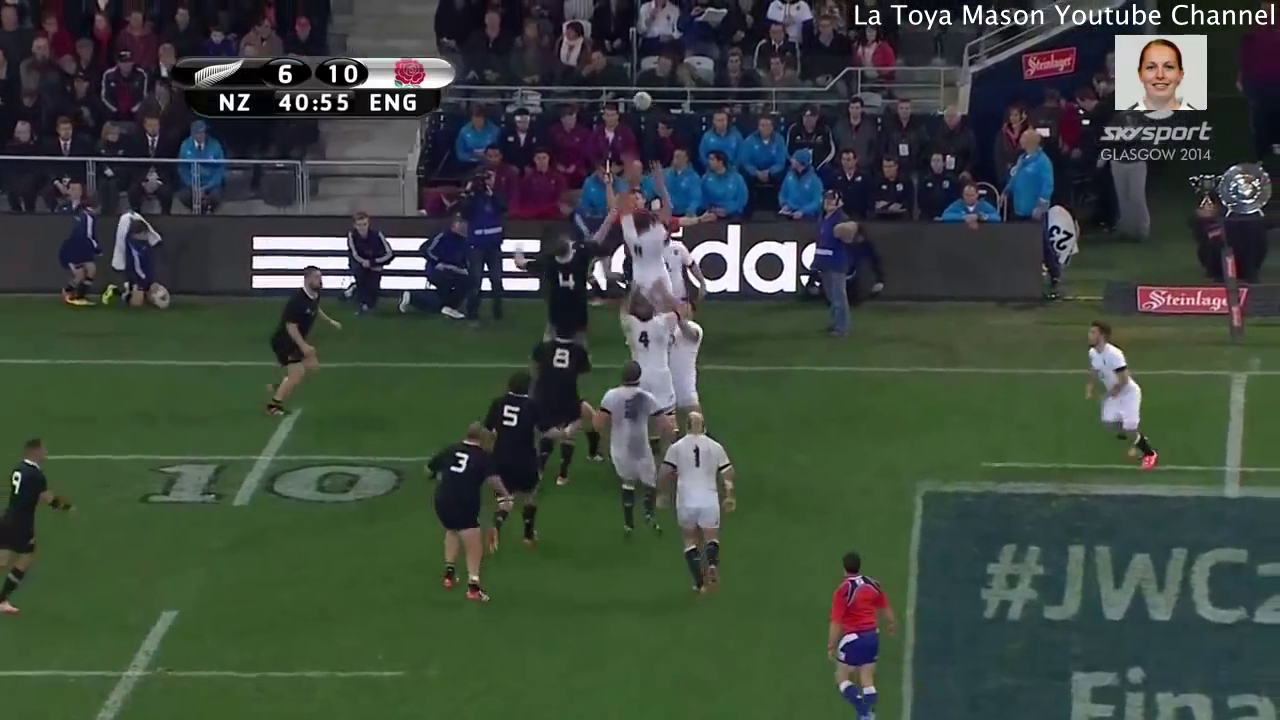ball: (627, 79, 660, 123)
player: (505, 162, 635, 378), (586, 353, 681, 569), (413, 412, 509, 618), (653, 407, 748, 608), (1, 425, 87, 623), (813, 540, 908, 719), (1072, 315, 1168, 490), (597, 150, 689, 319), (257, 251, 345, 424), (473, 363, 549, 558), (517, 310, 590, 508), (611, 276, 685, 454), (654, 272, 720, 457)
